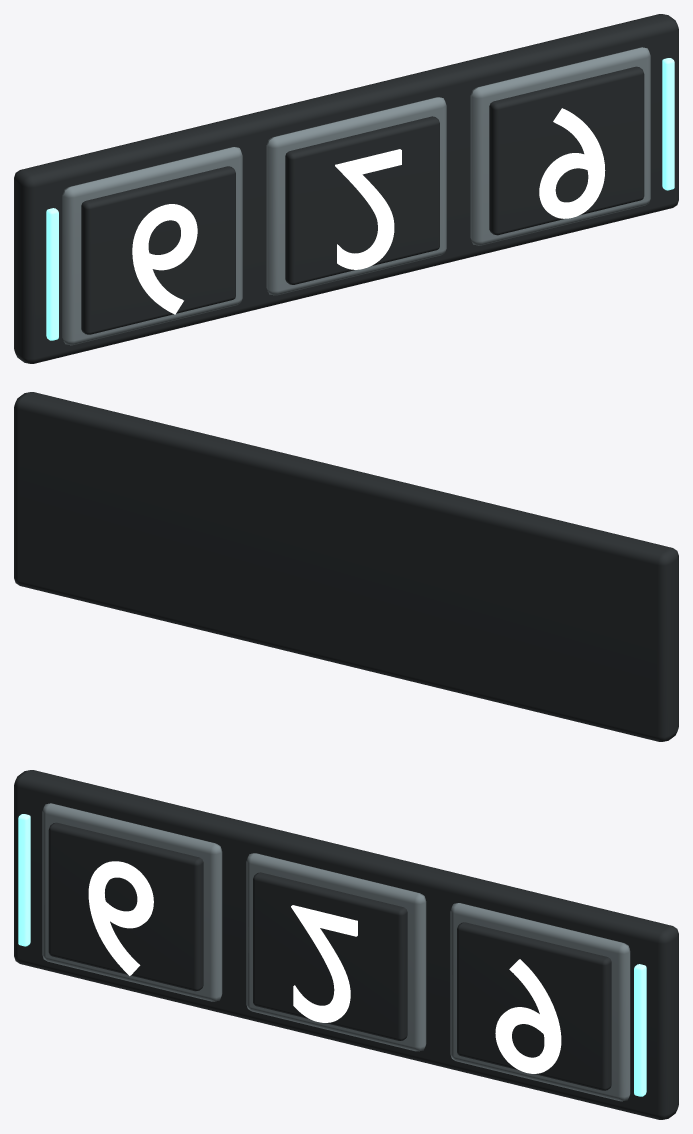
Rendered from calibration.glb.
3 renders of one model, top to bottom at view 1: azimuth 30°, elevation 25°; view 2: azimuth 150°, elevation 25°; view 3: azimuth 330°, elevation 25°, orthographic.
Visible parts, largest first — view 1: Board enclosure, Number recess.001, Number recess.002, Number recess, Ceramic bezel, Ceramic bezel.002, Ceramic bezel.001, 9, 6, 2, Optical pilot, Optical pilot.001; view 2: Board enclosure; view 3: Board enclosure, Number recess.001, Number recess, Number recess.002, Ceramic bezel, Ceramic bezel.002, Ceramic bezel.001, 9, 6, 2, Optical pilot, Optical pilot.001.
Part boxes in pixels (x1,y1,x2,y2): Board enclosure: [14, 14, 678, 363]; Number recess.001: [285, 116, 439, 284]; Number recess.002: [489, 66, 644, 235]; Number recess: [81, 166, 235, 334]; Ceramic bezel: [62, 147, 242, 345]; Ceramic bezel.002: [470, 47, 650, 245]; Ceramic bezel.001: [266, 97, 446, 295]; 9: [539, 108, 605, 218]; 6: [132, 204, 197, 314]; 2: [335, 149, 401, 269]; Optical pilot: [46, 208, 58, 340]; Optical pilot.001: [662, 58, 674, 190]; Board enclosure: [14, 392, 678, 741]; Board enclosure: [14, 770, 678, 1119]; Number recess.001: [253, 872, 407, 1040]; Number recess: [48, 822, 203, 991]; Number recess.002: [457, 922, 611, 1090]; Ceramic bezel: [42, 803, 222, 1001]; Ceramic bezel.002: [450, 903, 630, 1101]; Ceramic bezel.001: [246, 853, 426, 1051]; 9: [495, 959, 561, 1073]; 6: [88, 861, 153, 975]; 2: [291, 905, 357, 1022]; Optical pilot: [18, 814, 30, 946]; Optical pilot.001: [634, 964, 646, 1096].
Size of the model in its own units: 3.6 by 0.99 by 0.296.
